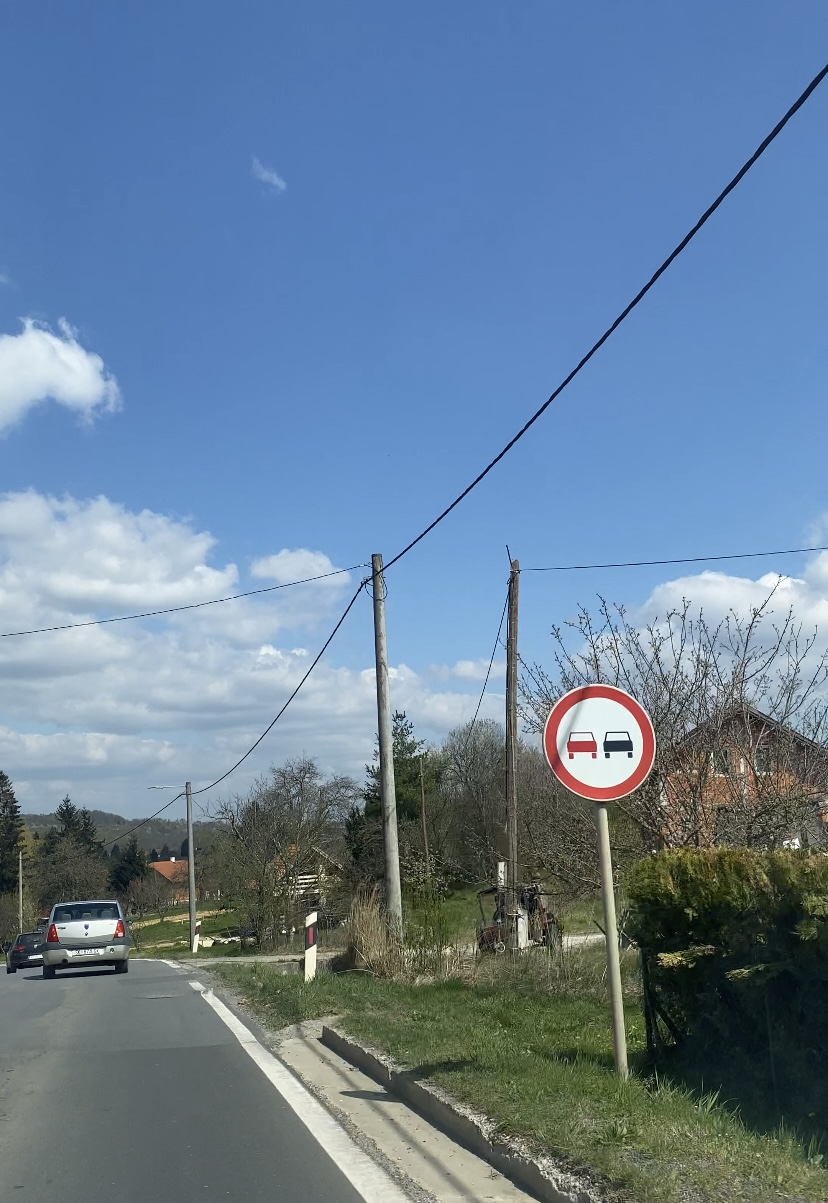Zabrana pretjecanja: (543, 683, 657, 801)
